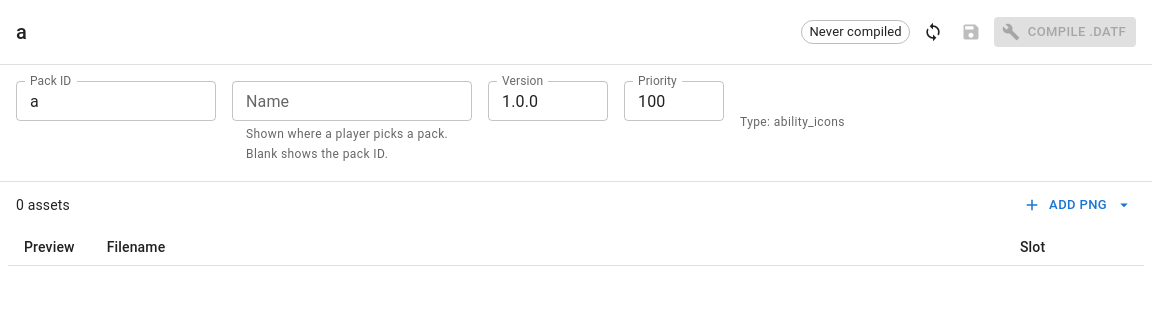
Test: PackEditor — field edits and dirty state › sanitizes pack_id (lowercase, allowed chars only)
The image size is (1152, 321).
Clear the field labelled "Pack ID". click: [116, 101]
box: [16,81,216,121]
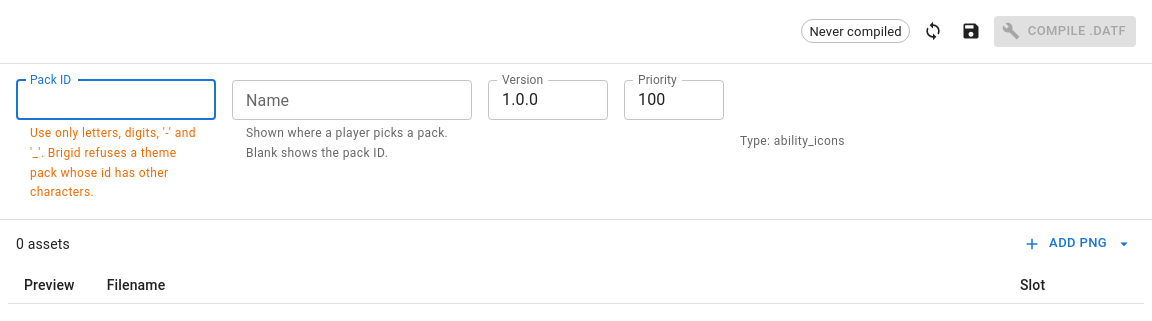
Type "My PACK!@#" into the field labelled "Pack ID". click: [116, 100]
box: [16,80,216,120]
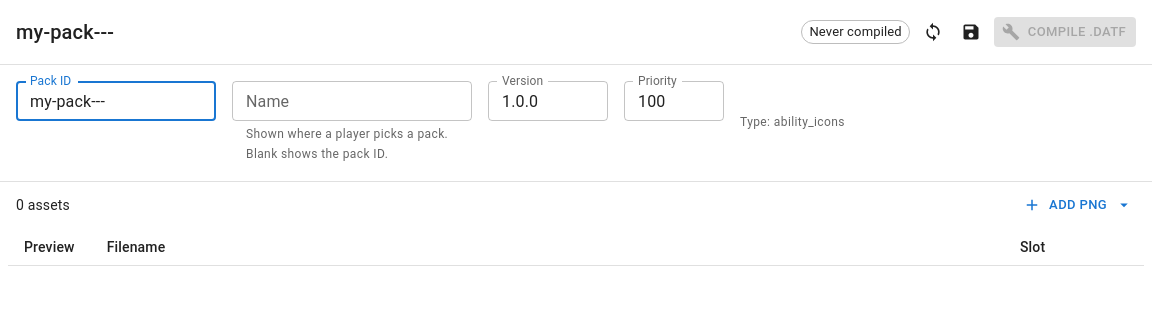
Check: the button named "save" is enabled, box [956,17,986,47]
Check: the field labelled "Pack ID" holds "my-pack---", box [16,81,216,121]
